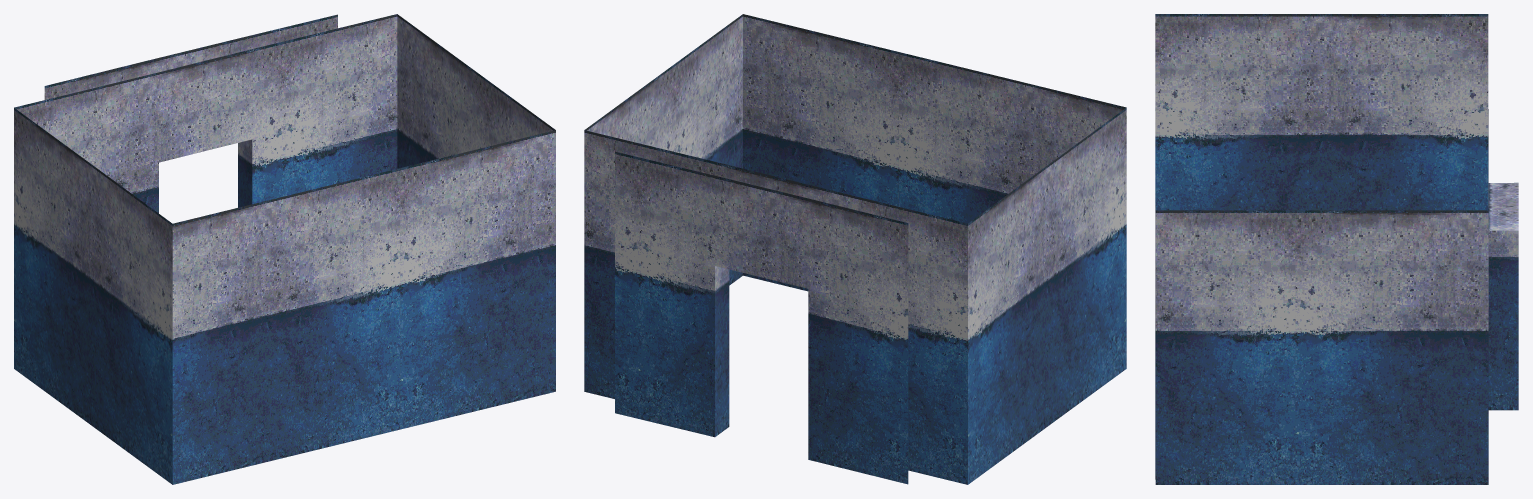
File: walls_room.fbx
3 renders of one model, left to right at view 1: azimuth 30°, elevation 25°; view 2: azimuth 150°, elevation 25°; view 3: azimuth 270°, elevation 25°, orthographic. The views are drawn at different scales.
Parts seen in each view (by area): view 1: Cube.007; view 2: Cube.007; view 3: Cube.007.
Part boxes in pixels (bbox=[...]): Cube.007: bbox=[14, 14, 555, 484]; Cube.007: bbox=[584, 14, 1126, 484]; Cube.007: bbox=[1155, 14, 1518, 484].
Bounding box in the file's own units: 618 × 404 × 483.
